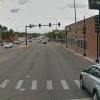crosswalk: (0, 78, 79, 90)
